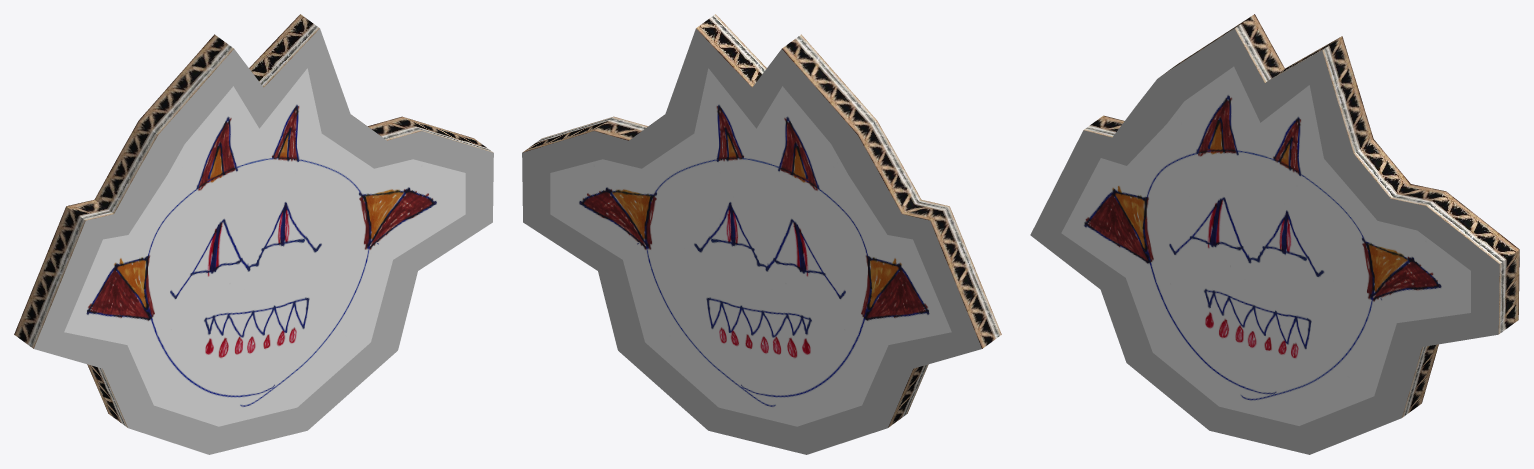
Rendered from Dracula.fbx.
3 renders of one model, left to right at view 1: azimuth 30°, elevation 25°; view 2: azimuth 150°, elevation 25°; view 3: azimuth 330°, elevation 25°, orthographic. The views are drawn at different scales.
Visible parts, largest first — view 1: Dracula; view 2: Dracula; view 3: Dracula.
Boxes of the visible parts, left/top/right/bottom form: Dracula: left=14, top=14, right=493, bottom=454; Dracula: left=522, top=14, right=1001, bottom=454; Dracula: left=1030, top=14, right=1519, bottom=454.
Bounding box in the file's own units: 282 × 235 × 20.9.
